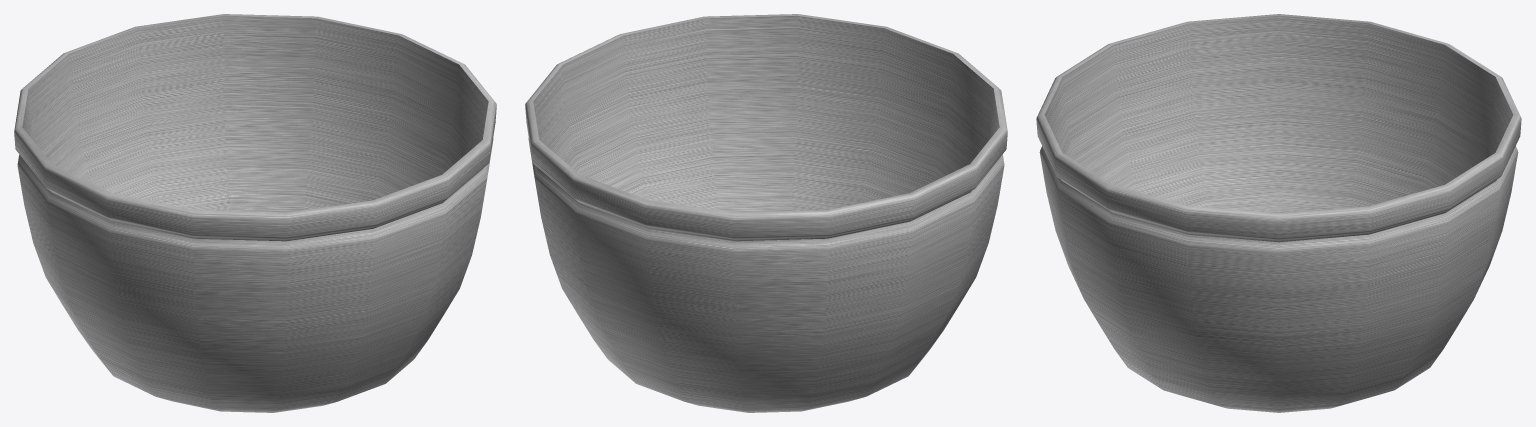
Rendered from Crock.FBX.
The picture shows the model from 3 angles, left to right: view 1: azimuth 30°, elevation 25°; view 2: azimuth 150°, elevation 25°; view 3: azimuth 270°, elevation 25°; orthographic projection.
Visible parts, largest first — view 1: crock; view 2: crock; view 3: crock.
Boxes of the visible parts, left/top/right/bottom form: crock: left=14, top=14, right=496, bottom=412; crock: left=525, top=14, right=1007, bottom=412; crock: left=1036, top=14, right=1521, bottom=412.
Bounding box in the file's own units: 20.41 × 11.45 × 20.41.
Materials: 1 (1 with a texture image).
